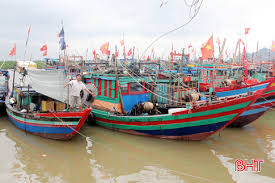tau_dansu: (84, 71, 257, 141), (9, 77, 93, 143)
